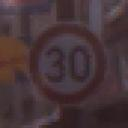speed_limit_30: (28, 23, 108, 105)
